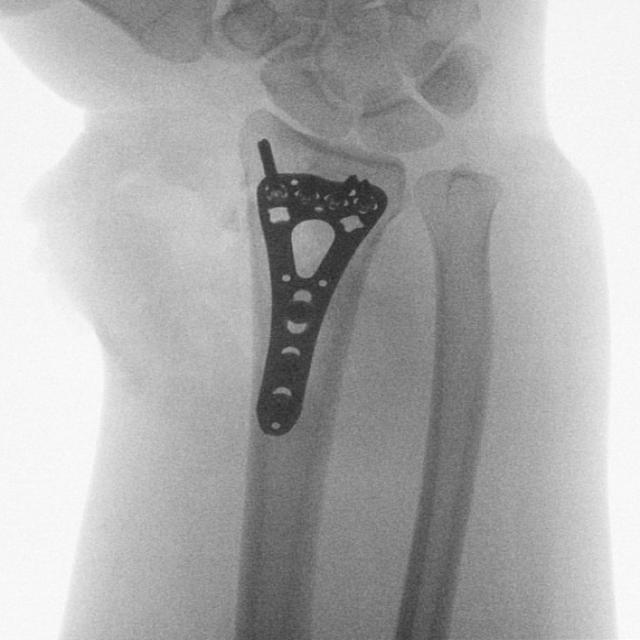x-ray: (230, 134, 400, 441)
